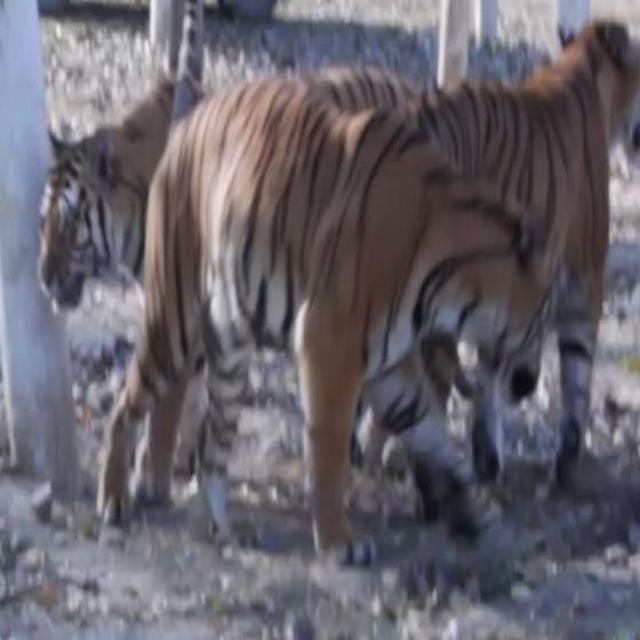tiger: (99, 80, 559, 573), (319, 20, 638, 486), (26, 39, 212, 319)
